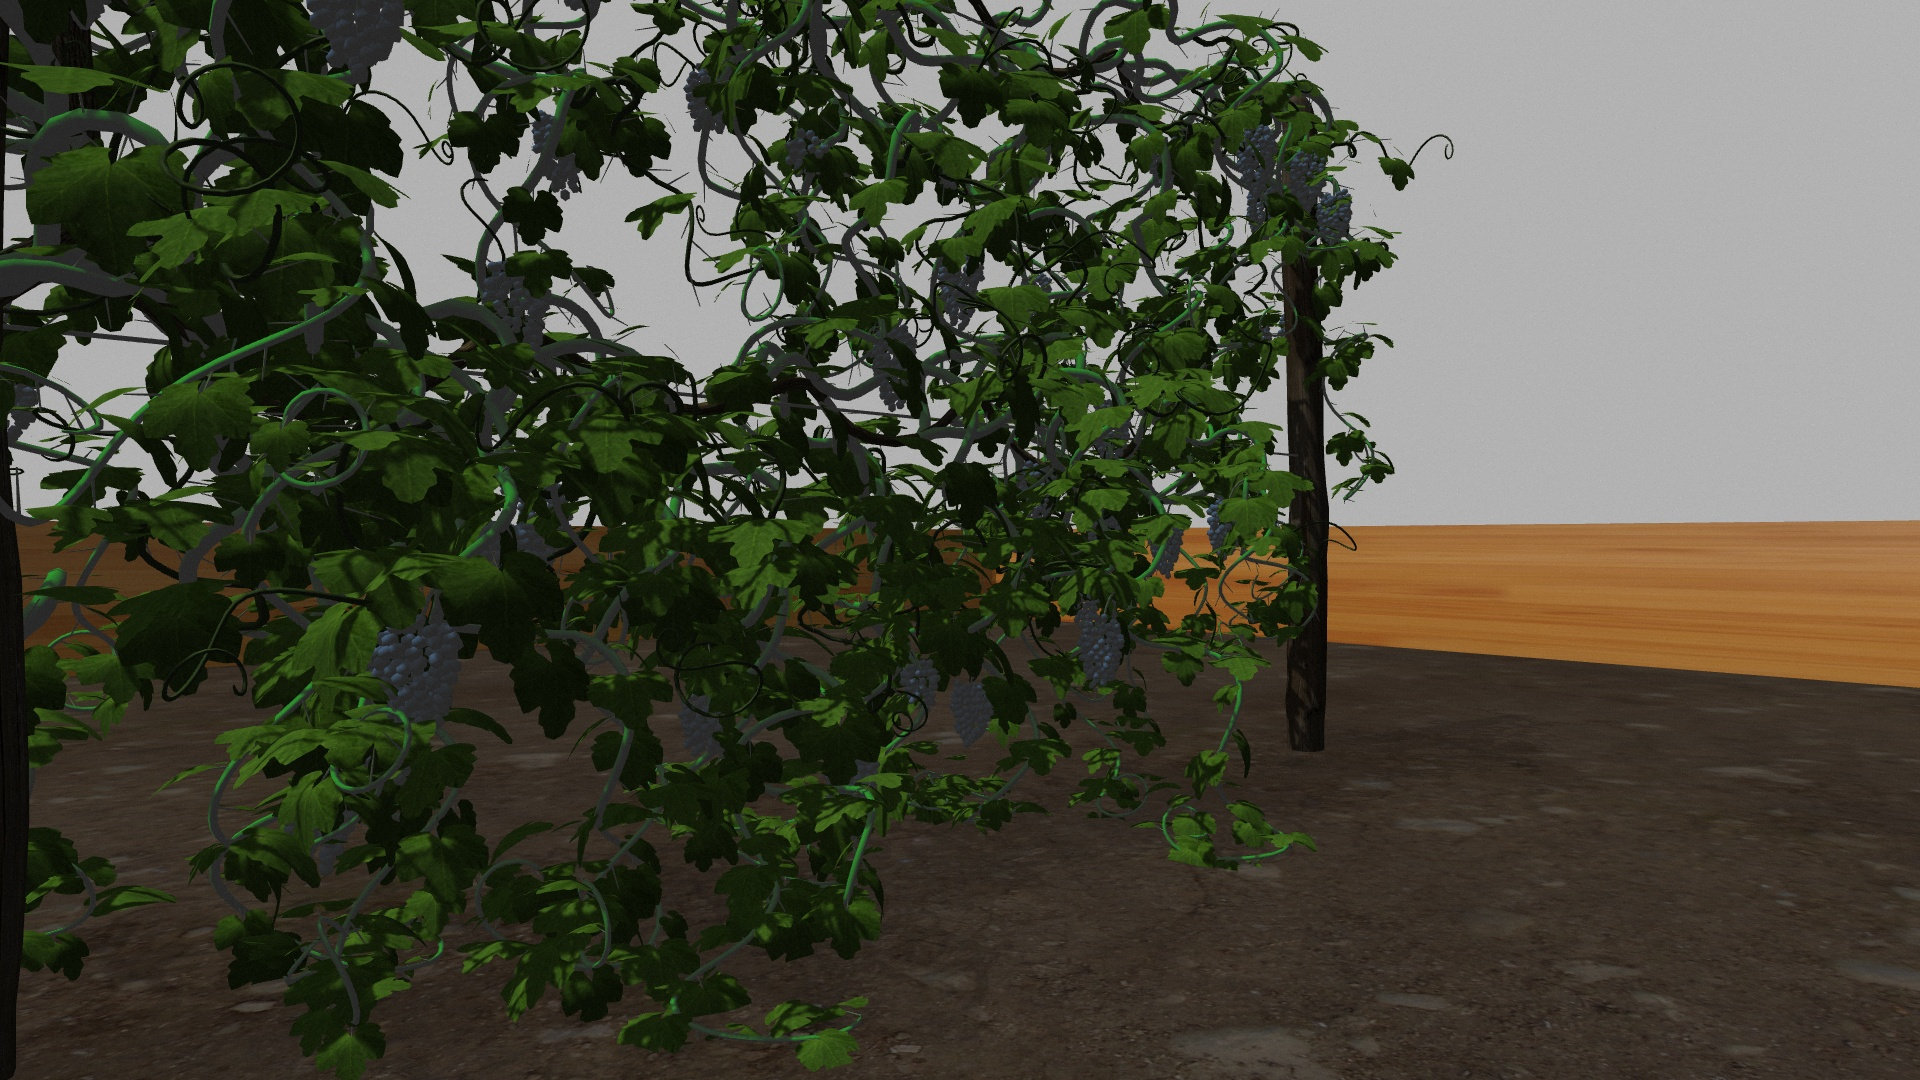grape: (371, 615, 464, 724), (307, 5, 406, 82), (483, 258, 554, 347), (1073, 597, 1124, 688), (866, 328, 916, 411), (934, 256, 984, 330), (676, 696, 731, 756), (949, 676, 994, 745), (1238, 124, 1279, 193), (1288, 146, 1328, 214), (898, 655, 942, 709), (1149, 520, 1185, 579), (1316, 189, 1352, 245), (785, 128, 829, 170), (1204, 500, 1236, 559), (1245, 193, 1267, 235)
